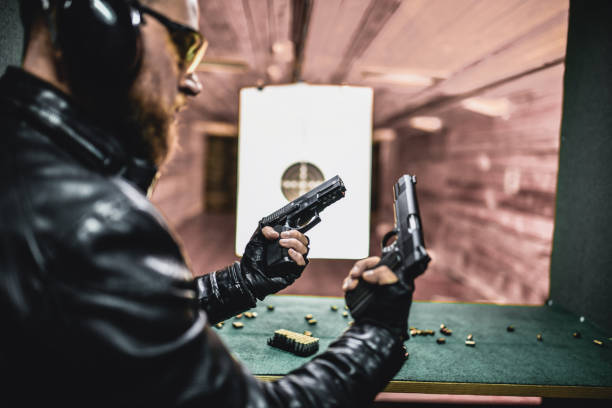gun: (343, 174, 433, 324), (258, 175, 349, 270)
